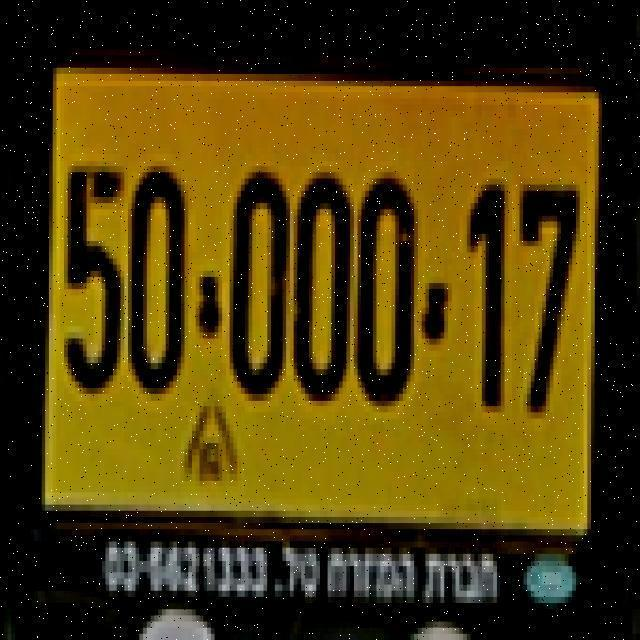LicensePlate: (33, 25, 612, 625)
